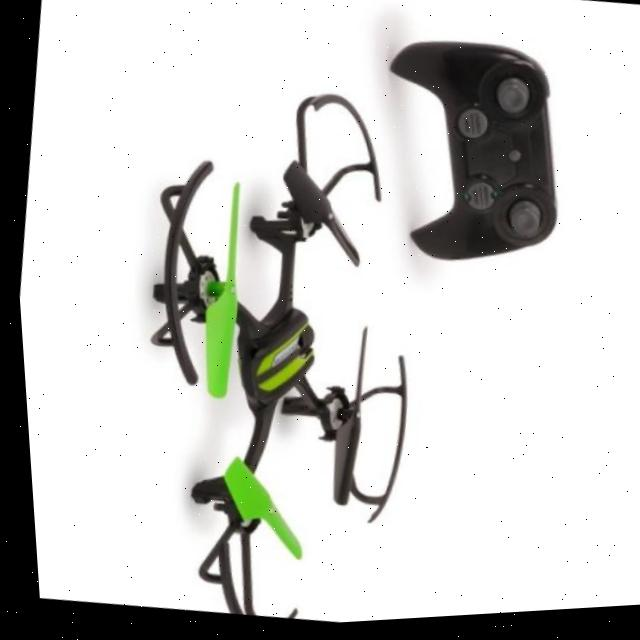drones: (67, 51, 469, 637)
